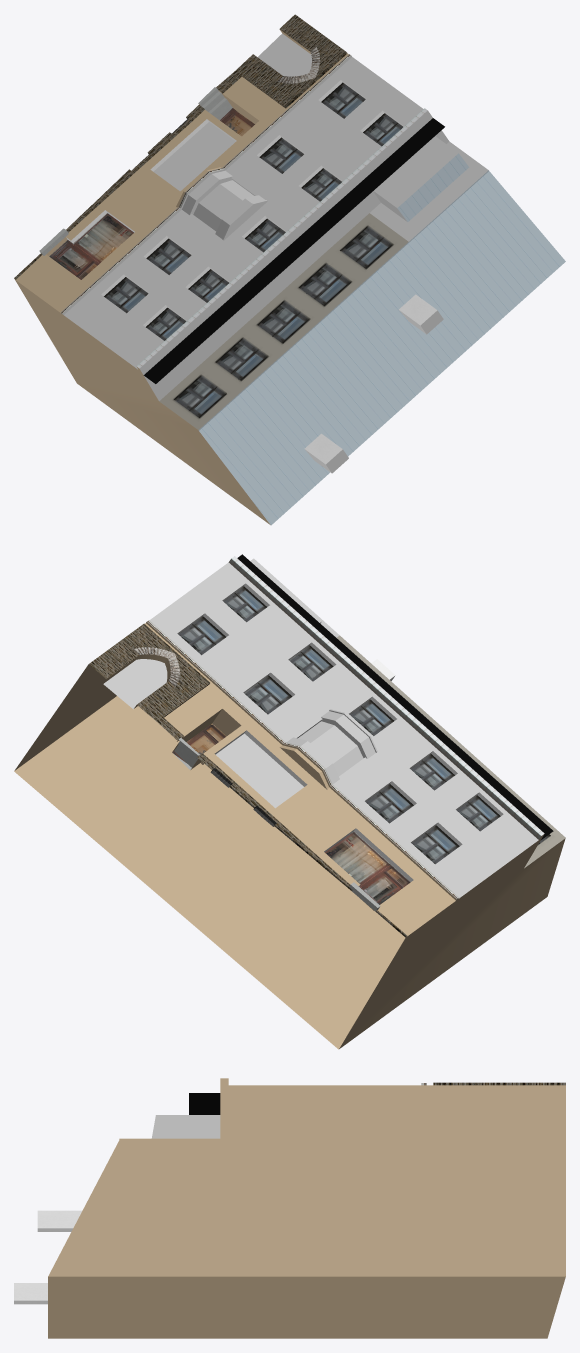
File: Myyrivahe_26.obj
3 renders of one model, top to bottom at view 1: azimuth 30°, elevation 25°; view 2: azimuth 150°, elevation 25°; view 3: azimuth 270°, elevation 25°, orthographic. The views are drawn at different scales.
Visible parts, largest first — view 1: Myyrivahe_26; view 2: Myyrivahe_26; view 3: Myyrivahe_26.
Part boxes in pixels (x1=…): Myyrivahe_26: x1=14, y1=14, x2=565, y2=525; Myyrivahe_26: x1=14, y1=554, x2=565, y2=1049; Myyrivahe_26: x1=14, y1=1078, x2=565, y2=1338.
Bounding box in the file's own units: 16.27 × 13.47 × 16.82.
